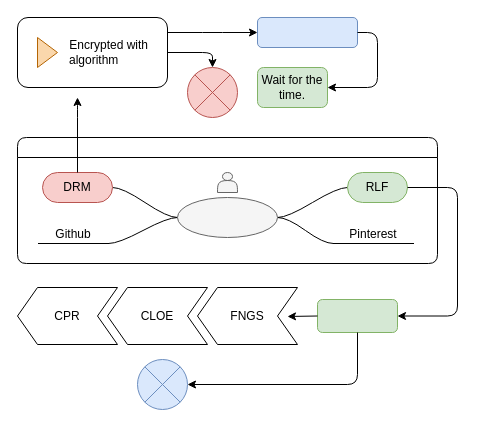
Image size: 483x427. Some labels were removed from this diagram. Each missing label, with the box of its shape:
Logic Filter: (316, 298, 398, 332)
Mind Map: (16, 136, 438, 264)
Publish On Web: (256, 16, 358, 48)
Unidentified P.: (176, 196, 278, 238)
